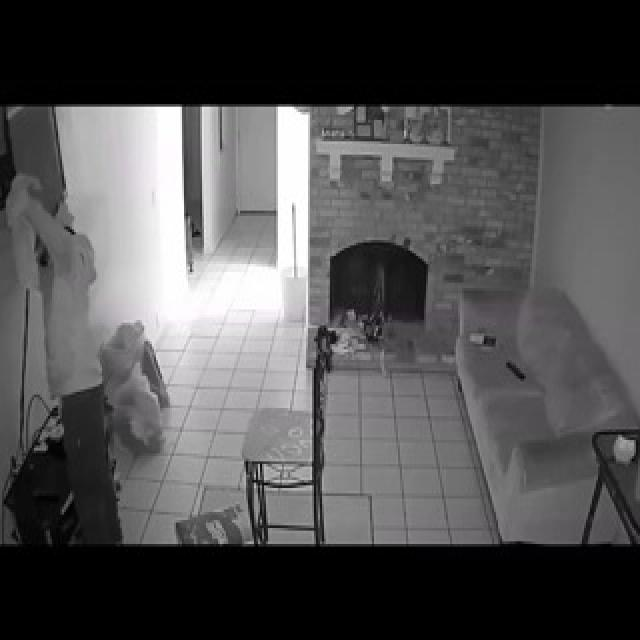thief: (29, 215, 108, 374)
